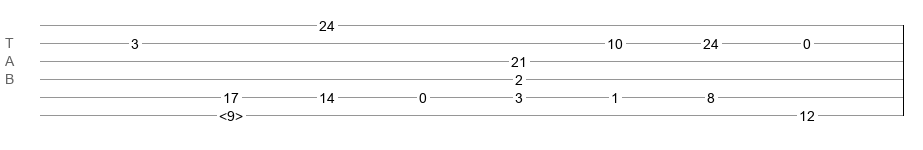0: (419, 90, 427, 100), (803, 36, 811, 46)
1: (611, 90, 619, 100)
10: (607, 36, 623, 46)
12: (799, 108, 815, 118)
14: (319, 90, 335, 100)
17: (223, 90, 239, 100)
2: (515, 72, 523, 82)
21: (511, 54, 527, 64)
24: (319, 18, 335, 28), (703, 36, 719, 46)
3: (131, 36, 139, 46), (515, 90, 523, 100)
8: (707, 90, 715, 100)
harmonic: (219, 108, 243, 118)
